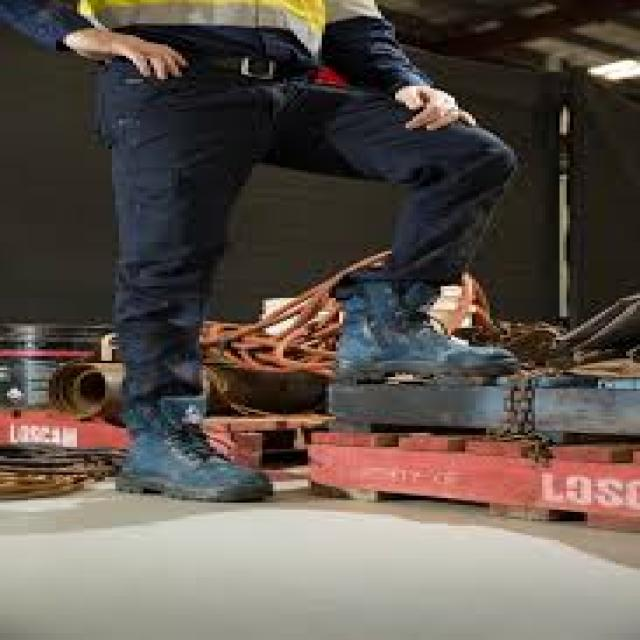shoes: (297, 268, 532, 391), (94, 391, 284, 507)
